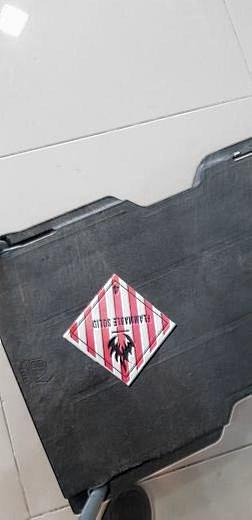flammable-solid: (61, 274, 176, 387)
